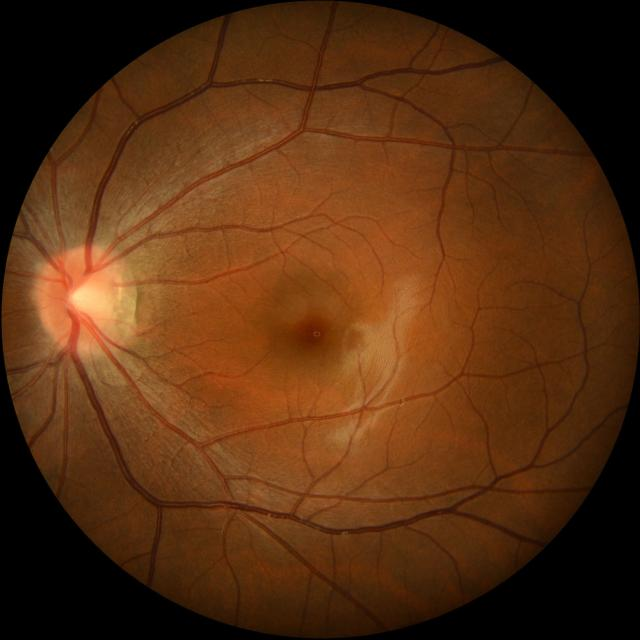OC: (65, 276, 106, 318)
OD: (43, 248, 121, 346)
